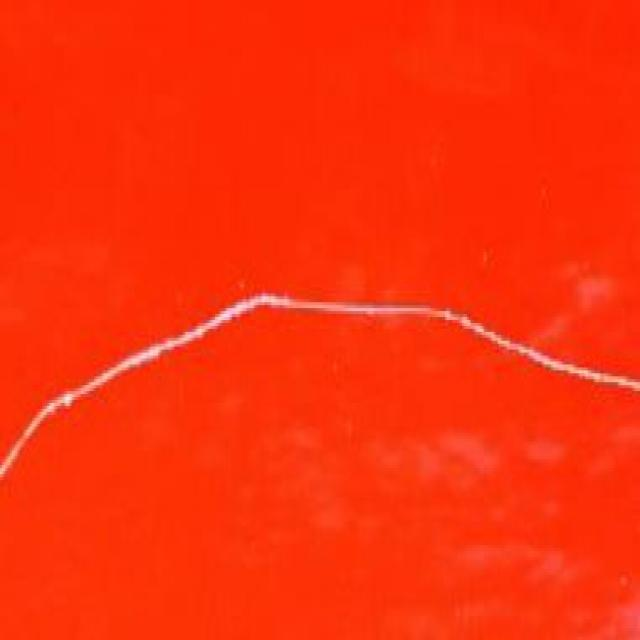scratch: (0, 287, 633, 506)
